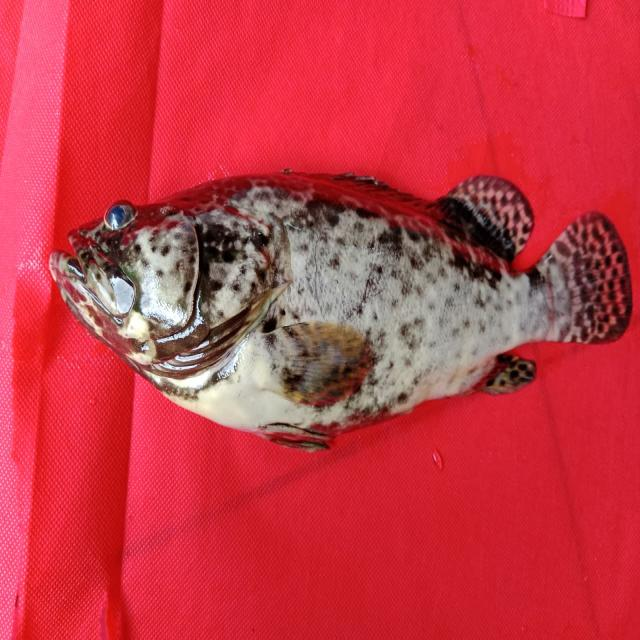ikan: (39, 116, 630, 471)
